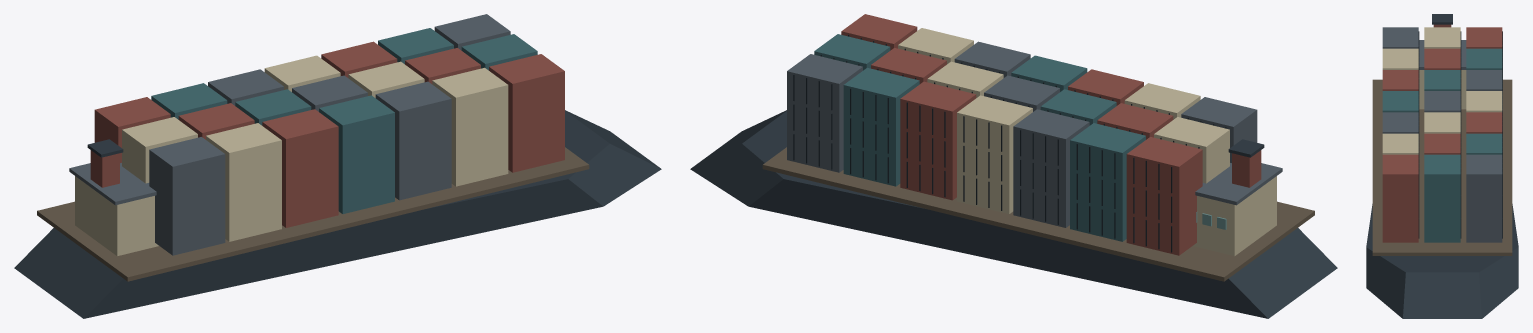
File: horizon_container_ship_narrows.glb
The picture shows the model from 3 angles, left to right: view 1: azimuth 30°, elevation 25°; view 2: azimuth 150°, elevation 25°; view 3: azimuth 270°, elevation 25°; orthographic projection. The views are drawn at different scales.
Parts seen in each view (by area): view 1: Container_ship_hull.003, Container_ship_deck.003, Ship_bridge.003, Hero_container.077_tier_3, Hero_container.082_tier_3, Hero_container.079_tier_3, Hero_container.081_tier_3, Hero_container.078_tier_3, Hero_container.080_tier_3, Hero_container.083_tier_3, Hero_container.070_tier_3, Hero_container.077_tier_2 (+28 smaller); view 2: Container_ship_hull.003, Container_ship_deck.003, Ship_bridge.003, Hero_container.063_tier_3, Hero_container.067_tier_3, Hero_container.066_tier_3, Hero_container.068_tier_3, Hero_container.069_tier_3, Hero_container.064_tier_3, Hero_container.065_tier_3, Hero_container.070_tier_3, Hero_container.063_tier_2 (+28 smaller); view 3: Container_ship_hull.003, Container_ship_deck.003, Hero_container.076_tier_3, Hero_container.069_tier_3, Hero_container.083_tier_3, Hero_container.069, Hero_container.069_tier_2, Hero_container.076, Hero_container.076_tier_2, Hero_container.083, Hero_container.083_tier_2, Hero_container.063_tier_3 (+20 smaller).
Boxes of the visible parts, x1,y1,x2,y2 form: Container_ship_hull.003: [14, 110, 661, 318]; Container_ship_deck.003: [37, 147, 589, 281]; Ship_bridge.003: [75, 176, 158, 256]; Hero_container.077_tier_3: [149, 137, 225, 196]; Hero_container.082_tier_3: [432, 67, 508, 127]; Hero_container.079_tier_3: [262, 109, 338, 168]; Hero_container.081_tier_3: [375, 81, 451, 140]; Hero_container.078_tier_3: [206, 123, 281, 182]; Hero_container.080_tier_3: [319, 95, 394, 154]; Hero_container.083_tier_3: [489, 54, 564, 113]; Hero_container.070_tier_3: [122, 117, 197, 176]; Hero_container.077_tier_2: [149, 179, 225, 225]; Container_ship_hull.003: [690, 110, 1337, 318]; Container_ship_deck.003: [762, 147, 1314, 281]; Ship_bridge.003: [1193, 176, 1276, 256]; Hero_container.063_tier_3: [1126, 137, 1202, 196]; Hero_container.067_tier_3: [900, 81, 976, 140]; Hero_container.066_tier_3: [957, 95, 1032, 154]; Hero_container.068_tier_3: [843, 67, 919, 127]; Hero_container.069_tier_3: [787, 54, 862, 113]; Hero_container.064_tier_3: [1070, 123, 1145, 182]; Hero_container.065_tier_3: [1013, 109, 1089, 168]; Hero_container.070_tier_3: [1154, 117, 1229, 176]; Hero_container.063_tier_2: [1126, 179, 1202, 225]; Container_ship_hull.003: [1366, 204, 1518, 318]; Container_ship_deck.003: [1372, 79, 1512, 255]; Hero_container.076_tier_3: [1424, 154, 1460, 196]; Hero_container.069_tier_3: [1466, 154, 1502, 196]; Hero_container.083_tier_3: [1382, 154, 1418, 196]; Hero_container.069: [1466, 220, 1502, 242]; Hero_container.069_tier_2: [1466, 197, 1502, 219]; Hero_container.076: [1424, 220, 1460, 242]; Hero_container.076_tier_2: [1424, 197, 1460, 219]; Hero_container.083: [1382, 220, 1418, 242]; Hero_container.083_tier_2: [1382, 197, 1418, 219]; Hero_container.063_tier_3: [1466, 27, 1502, 48].
Bounding box in the file's own units: 28 × 6.13 × 8.2.
